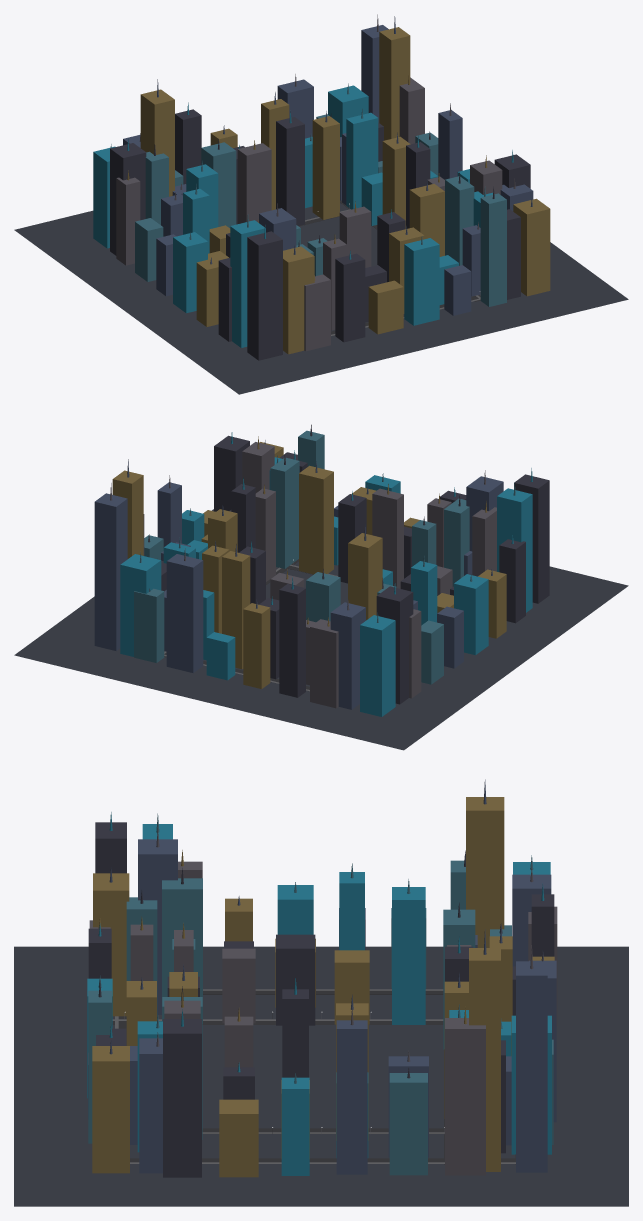
File: sydney_city.glb
The picture shows the model from 3 angles, top to bottom: view 1: azimuth 30°, elevation 25°; view 2: azimuth 150°, elevation 25°; view 3: azimuth 270°, elevation 25°; orthographic projection. The views are drawn at different scales.
Parts seen in each view (by area): view 1: Ground, Bld_-171_-171, Bld_25_-180, Bld_117_-180, Bld_171_-171, Bld_171_133, Bld_25_112, Bld_71_112, Bld_-133_-171, Bld_-67_-180, Bld_-21_112, Bld_117_112 (+42 smaller); view 2: Ground, Bld_171_171, Bld_71_180, Bld_71_-112, Bld_-171_171, Bld_-67_180, Bld_112_-113, Bld_-133_171, Bld_25_146, Bld_-171_-171, Bld_-133_133, Bld_-171_-133 (+35 smaller); view 3: Ground, Bld_171_171, Bld_180_117, Bld_180_-113, Bld_-133_133, Bld_180_25, Bld_171_-171, Bld_-112_71, Bld_171_133, Bld_180_71, Bld_-133_-171, Bld_171_-133 (+36 smaller).
Boxes of the visible parts, bbox=[...] form: Ground: bbox=[14, 203, 628, 394]; Bld_-171_-171: bbox=[247, 231, 282, 360]; Bld_25_-180: bbox=[404, 238, 439, 325]; Bld_117_-180: bbox=[480, 193, 506, 306]; Bld_171_-171: bbox=[513, 198, 550, 296]; Bld_171_133: bbox=[379, 27, 410, 140]; Bld_25_112: bbox=[276, 117, 304, 225]; Bld_71_112: bbox=[312, 116, 339, 219]; Bld_-133_-171: bbox=[283, 246, 314, 354]; Bld_-67_-180: bbox=[335, 253, 365, 342]; Bld_-21_112: bbox=[237, 143, 271, 223]; Bld_117_112: bbox=[346, 112, 378, 209]; Ground: bbox=[14, 509, 628, 750]; Bld_171_171: bbox=[94, 493, 127, 650]; Bld_71_180: bbox=[166, 554, 203, 672]; Bld_71_-112: bbox=[299, 465, 333, 574]; Bld_-171_171: bbox=[360, 615, 395, 716]; Bld_-67_180: bbox=[279, 584, 305, 697]; Bld_112_-113: bbox=[270, 457, 299, 568]; Bld_-133_171: bbox=[330, 602, 365, 709]; Bld_25_146: bbox=[222, 551, 250, 669]; Bld_-171_-171: bbox=[514, 474, 549, 603]; Bld_-133_133: bbox=[348, 533, 382, 620]; Bld_-171_-133: bbox=[497, 488, 532, 612]; Ground: bbox=[14, 946, 628, 1206]; Bld_171_171: bbox=[516, 961, 547, 1172]; Bld_180_117: bbox=[445, 1018, 485, 1175]; Bld_180_-113: bbox=[163, 1019, 201, 1177]; Bld_-133_133: bbox=[466, 797, 504, 947]; Bld_180_25: bbox=[336, 1020, 367, 1174]; Bld_171_-171: bbox=[92, 1046, 129, 1173]; Bld_-112_71: bbox=[392, 887, 425, 1024]; Bld_171_133: bbox=[469, 948, 500, 1171]; Bld_180_71: bbox=[389, 1073, 427, 1175]; Bld_-133_-171: bbox=[93, 873, 129, 1016]; Bld_171_-133: bbox=[139, 1038, 162, 1173].
Size of the model in its own units: 500 by 213 by 500.
